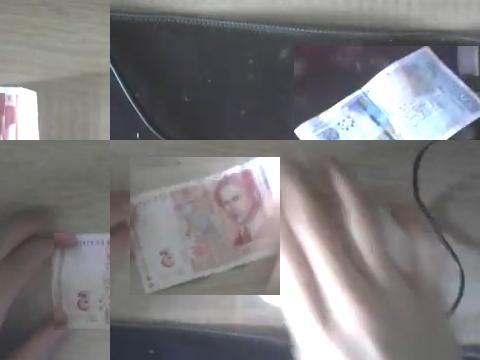20leva: (294, 46, 480, 140)
5leva: (130, 157, 280, 295), (54, 235, 110, 330)
